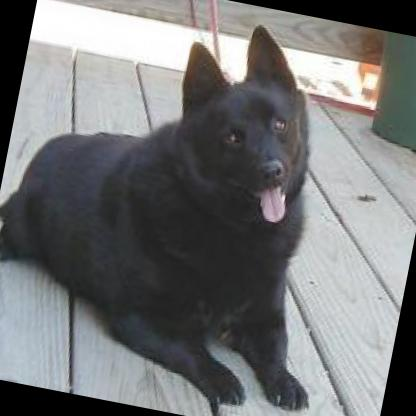schipperke: (0, 0, 379, 413)
